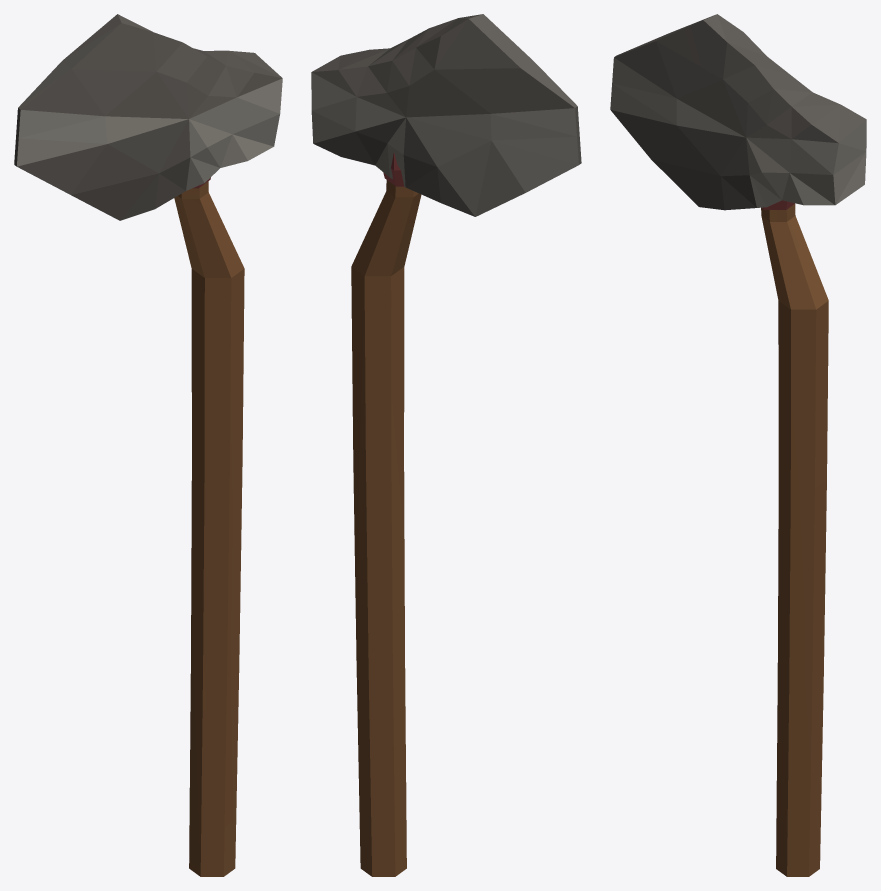
Rendered from wpn_axe_haft_2p0x_86cabh907.fbx.
3 renders of one model, left to right at view 1: azimuth 30°, elevation 25°; view 2: azimuth 150°, elevation 25°; view 3: azimuth 330°, elevation 25°, orthographic. The views are drawn at different scales.
Visible parts, largest first — view 1: wpn_axe_01; view 2: wpn_axe_01; view 3: wpn_axe_01.
Boxes of the visible parts, x1,y1,x2,y2 form: wpn_axe_01: [14, 14, 282, 876]; wpn_axe_01: [311, 14, 581, 876]; wpn_axe_01: [610, 14, 866, 876].
Bounding box in the file's own units: 0.4315 × 0.1037 × 1.42.
